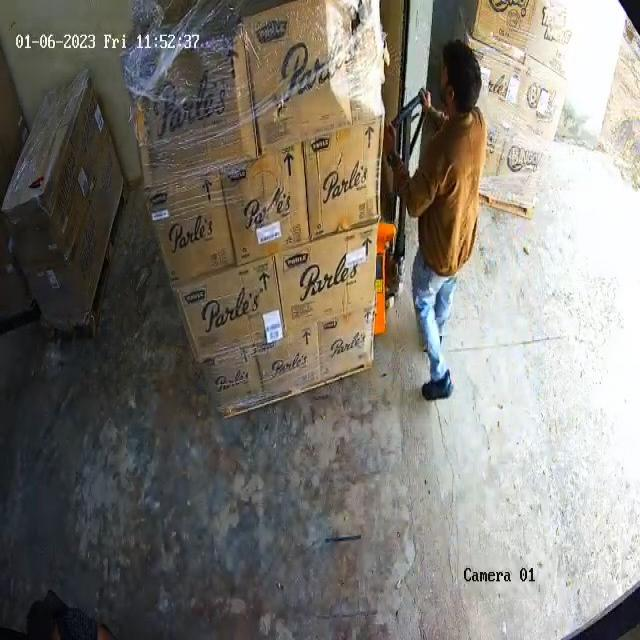tear: (326, 11, 385, 109)
